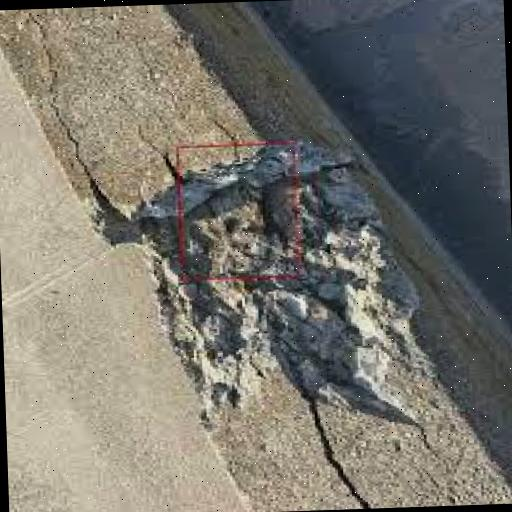spalling: (130, 143, 416, 414)
